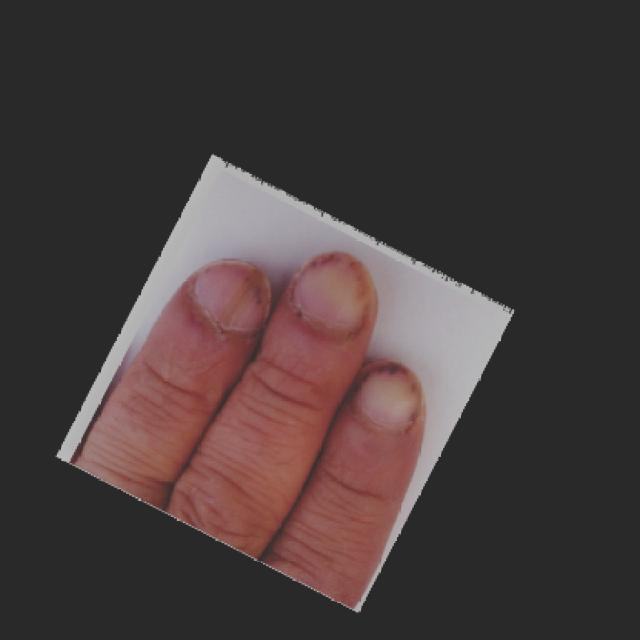Nail: (294, 252, 373, 324), (196, 259, 269, 331), (355, 361, 426, 423)
